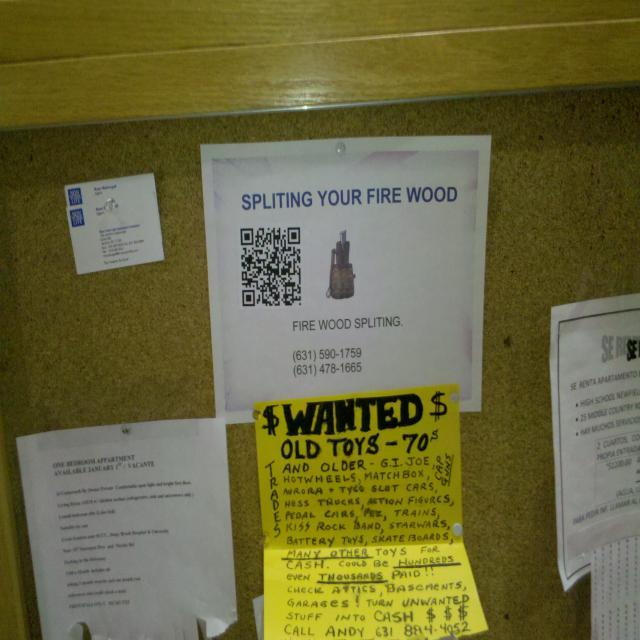qrcode: (242, 229, 302, 307)
